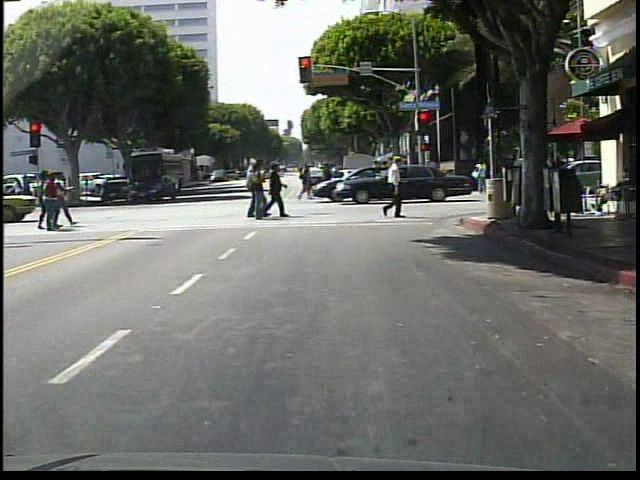person: (373, 153, 415, 226)
